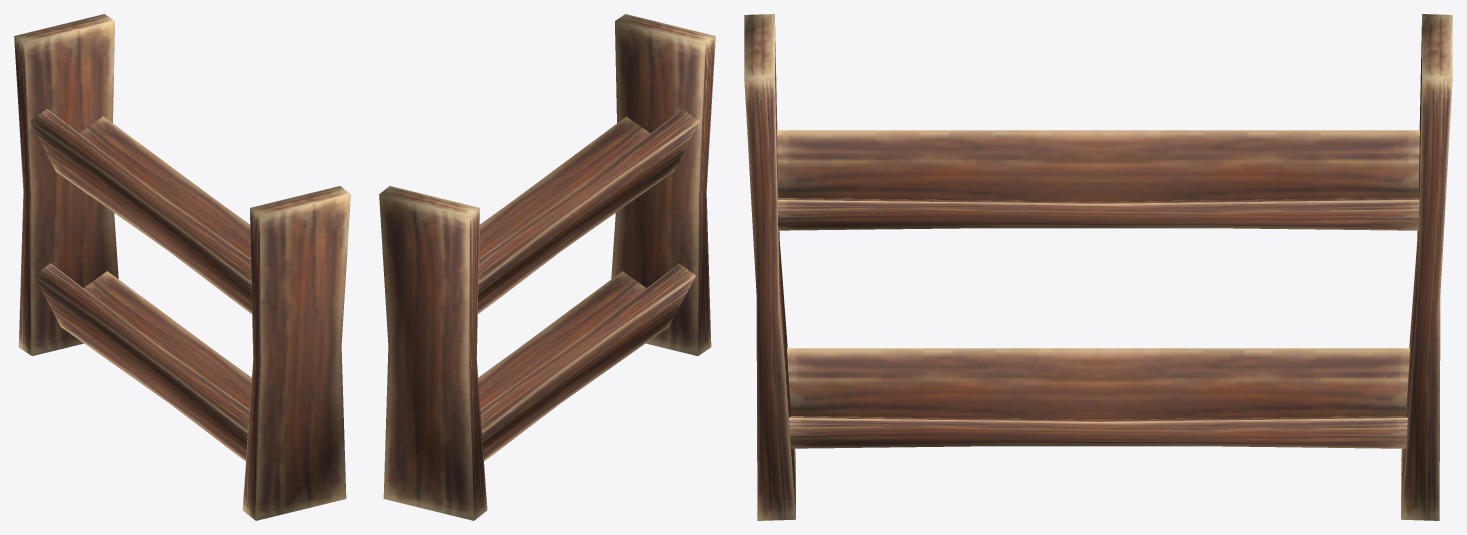
The model's file is bootrack01.obj.
3 renders of one model, left to right at view 1: azimuth 30°, elevation 25°; view 2: azimuth 150°, elevation 25°; view 3: azimuth 270°, elevation 25°, orthographic. The views are drawn at different scales.
Parts seen in each view (by area): view 1: bootrack01; view 2: bootrack01; view 3: bootrack01.
Part boxes in pixels (left/top/right/bottom): bootrack01: left=14, top=14, right=350, bottom=520; bootrack01: left=379, top=14, right=715, bottom=520; bootrack01: left=744, top=14, right=1452, bottom=520.
Size of the model in its own units: 0.4374 by 1.43 by 2.07.
1 material, 1 textured.
